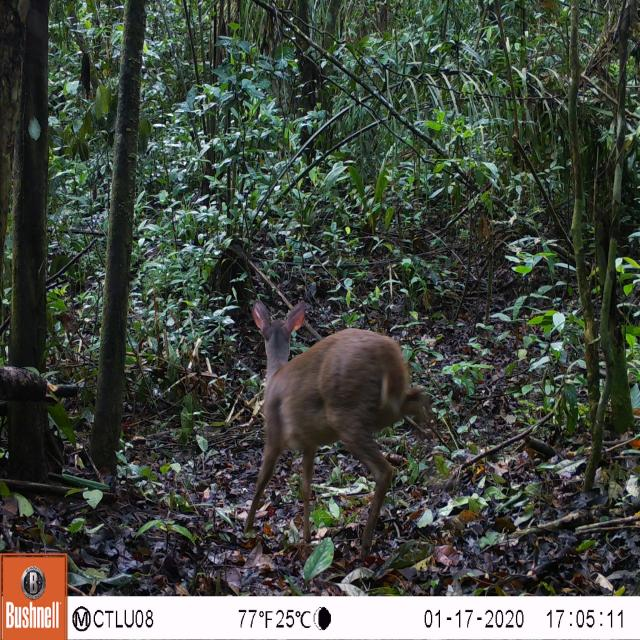White-tailed Deer: (237, 292, 433, 570)
